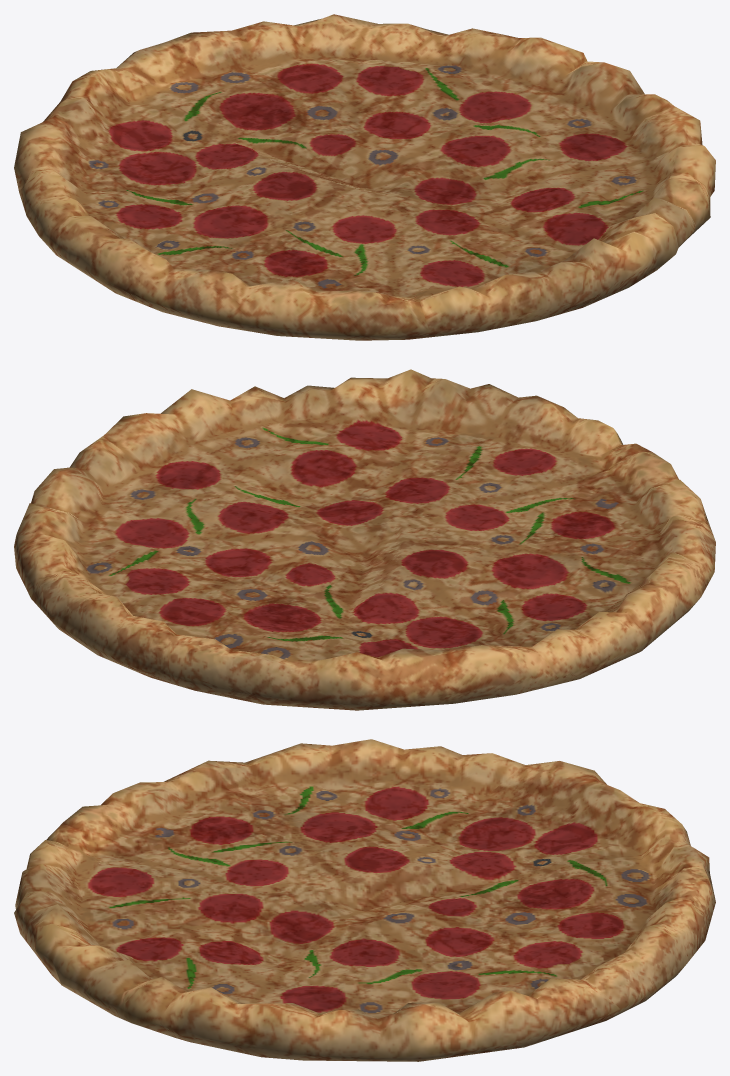
The model's file is SM_PizzaBox_Pizza.fbx.
The picture shows the model from 3 angles, top to bottom: view 1: azimuth 30°, elevation 25°; view 2: azimuth 150°, elevation 25°; view 3: azimuth 270°, elevation 25°; orthographic projection.
Parts seen in each view (by area): view 1: SM_PizzaBox_Pizza_LOD0; view 2: SM_PizzaBox_Pizza_LOD0; view 3: SM_PizzaBox_Pizza_LOD0.
Part boxes in pixels (left/top/right/bottom): SM_PizzaBox_Pizza_LOD0: left=14, top=14, right=715, bottom=340; SM_PizzaBox_Pizza_LOD0: left=14, top=369, right=715, bottom=710; SM_PizzaBox_Pizza_LOD0: left=14, top=739, right=715, bottom=1061.
Size of the model in its own units: 60.81 by 61.75 by 5.61.
1 material, 1 textured.
